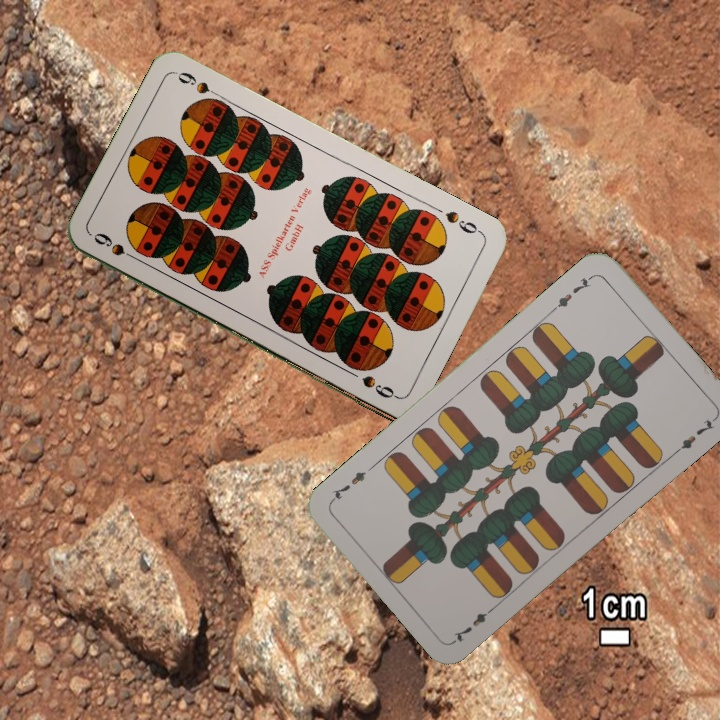E7: (449, 602, 499, 645), (547, 271, 596, 314)
S9: (89, 228, 143, 265), (441, 206, 486, 238)
